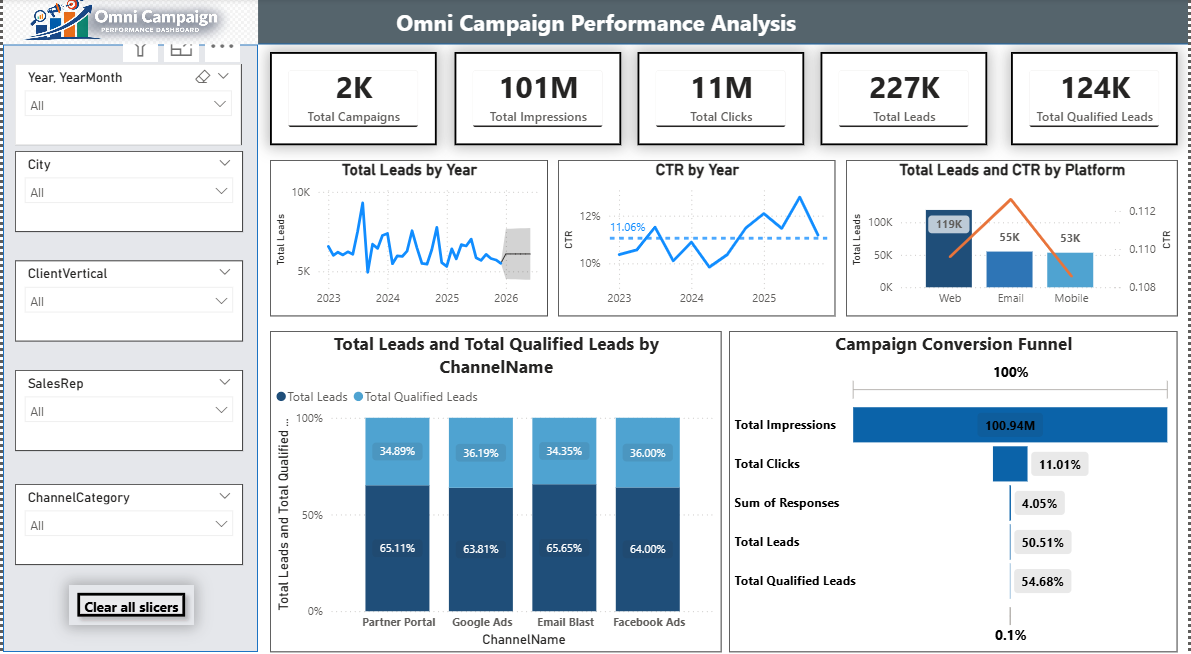

Layout of this report page (visuals, bound fields, positions):
{"tool":"powerbi","page":{"name":"Campaign Performance ","canvas":[1280,720],"ordinal":1},"visuals":[{"type":"cardVisual","fields":{"Data":["DimDate.Total Leads"]},"box":[882.5,58.3,179.7,100.4],"z":0},{"type":"cardVisual","fields":{"Data":["DimDate.Total Qualified Leads"]},"box":[1088.1,58.3,179.7,100.4],"z":1000},{"type":"cardVisual","fields":{"Data":["DimDate.Total Impressions"]},"box":[487.4,58.3,179.7,100.4],"z":2000},{"type":"cardVisual","fields":{"Data":["DimDate.Total Clicks"]},"box":[684.9,58.3,179.7,100.4],"z":3000},{"type":"cardVisual","fields":{"Data":["DimDate.Total Campaigns"]},"box":[288.2,58.3,179.7,100.4],"z":4000},{"type":"shape","title":"Om","box":[0,0,1280.8,50.2],"z":5000},{"type":"shape","box":[0,50.2,275.3,655.8],"z":6000},{"type":"slicer","fields":{"Values":["DimDate.Year","DimDate.YearMonth"]},"box":[13,71.2,244.5,87.4],"z":7000},{"type":"slicer","fields":{"Values":["Dim_Client.City"]},"box":[13,165.2,246.1,87.4],"z":8000},{"type":"slicer","fields":{"Values":["Dim_Client.ClientVertical"]},"box":[13,283.4,246.1,87.4],"z":9000},{"type":"slicer","fields":{"Values":["Dim_Client.SalesRep"]},"box":[13,401.6,246.1,87.4],"z":10000},{"type":"slicer","fields":{"Values":["Dim_Channel.ChannelCategory"]},"box":[13,524.6,246.1,87.4],"z":11000},{"type":"actionButton","box":[71.2,633.1,134.4,43.7],"z":12000},{"type":"lineChart","title":"Total Leads by Year","fields":{"Y":["DimDate.Total Leads"],"Category":["DimDate.Date.Variation.Date Hierarchy.Year","DimDate.Date.Variation.Date Hierarchy.Quarter","DimDate.Date.Variation.Date Hierarchy.Month"]},"box":[288.2,174.9,300,168.4],"z":13000},{"type":"image","box":[0,0,275.3,50.2],"z":14000},{"type":"funnel","title":"Campaign Conversion Funnel","fields":{"Y":["DimDate.Total Impressions","DimDate.Total Clicks","Sum(Fact_Sales.Responses)","DimDate.Total Leads","DimDate.Total Qualified Leads"]},"box":[783.7,359.5,484.1,346.5],"z":15000},{"type":"hundredPercentStackedColumnChart","fields":{"Y":["DimDate.Total Leads","DimDate.Total Qualified Leads"],"Category":["Dim_Channel.ChannelName"]},"box":[288.2,359.5,487.4,346.5],"z":16000},{"type":"lineStackedColumnComboChart","title":"Total Leads and CTR by Platform","fields":{"Category":["Dim_Channel.Platform"],"Y":["DimDate.Total Leads"],"Y2":["DimDate.CTR"]},"box":[910,174.9,357.8,168.4],"z":17000},{"type":"lineChart","title":"CTR by Year","fields":{"Y":["DimDate.CTR"],"Category":["DimDate.Date.Variation.Date Hierarchy.Year","DimDate.Date.Variation.Date Hierarchy.Quarter"]},"box":[599.1,174.9,299.6,168.4],"z":18000}]}

Visuals, with their boxes in screenshot pixels (x1, y1, x2, y2):
cardVisual - DimDate.Total Leads: (left=820, top=48, right=987, bottom=141)
cardVisual - DimDate.Total Qualified Leads: (left=1011, top=48, right=1178, bottom=141)
cardVisual - DimDate.Total Impressions: (left=453, top=48, right=620, bottom=141)
cardVisual - DimDate.Total Clicks: (left=636, top=48, right=803, bottom=141)
cardVisual - DimDate.Total Campaigns: (left=268, top=48, right=435, bottom=141)
"Om" shape: (left=0, top=0, right=1190, bottom=40)
shape: (left=0, top=40, right=256, bottom=650)
slicer - DimDate.Year x DimDate.YearMonth: (left=12, top=60, right=239, bottom=141)
slicer - Dim_Client.City: (left=12, top=147, right=241, bottom=229)
slicer - Dim_Client.ClientVertical: (left=12, top=257, right=241, bottom=338)
slicer - Dim_Client.SalesRep: (left=12, top=367, right=241, bottom=448)
slicer - Dim_Channel.ChannelCategory: (left=12, top=481, right=241, bottom=563)
actionButton: (left=66, top=582, right=191, bottom=623)
"Total Leads by Year" lineChart: (left=268, top=156, right=547, bottom=313)
image: (left=0, top=0, right=256, bottom=40)
"Campaign Conversion Funnel" funnel: (left=728, top=328, right=1178, bottom=650)
hundredPercentStackedColumnChart - DimDate.Total Leads x DimDate.Total Qualified Leads: (left=268, top=328, right=721, bottom=650)
"Total Leads and CTR by Platform" lineStackedColumnComboChart: (left=846, top=156, right=1178, bottom=313)
"CTR by Year" lineChart: (left=557, top=156, right=835, bottom=313)
